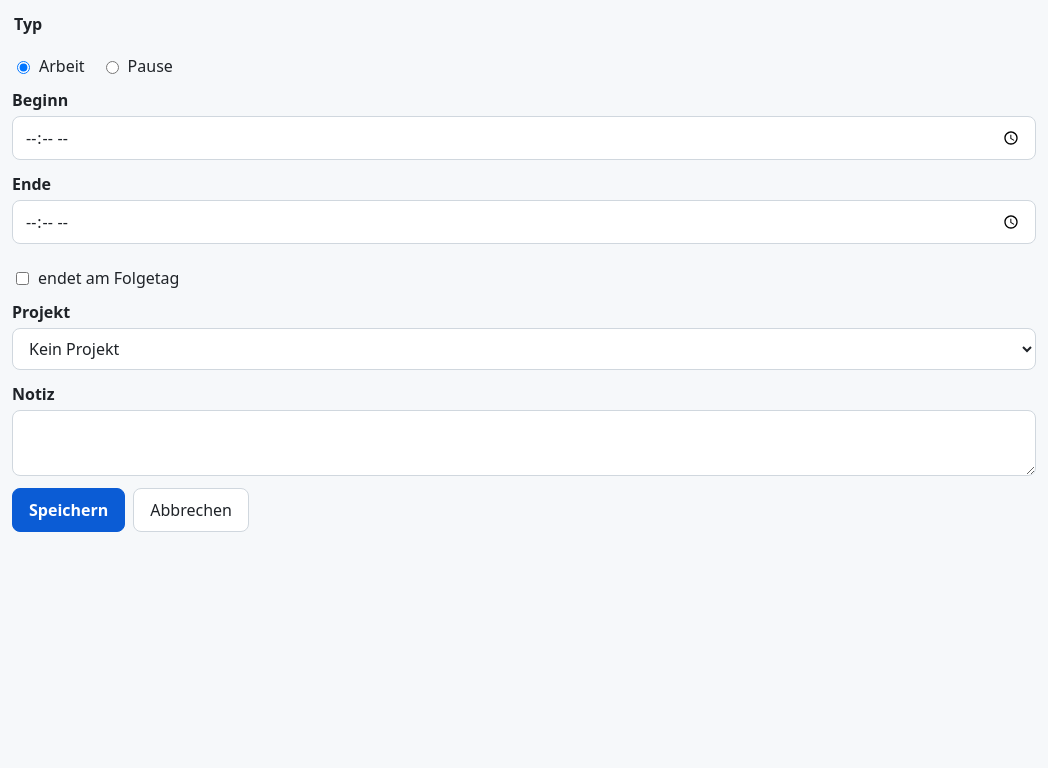
Test: EntryForm: add mode › rejects an end before the start
Type "12:00" into the time field labelled "Beginn" at x=524, y=138, box x1=12 y1=116 x2=1036 y2=160
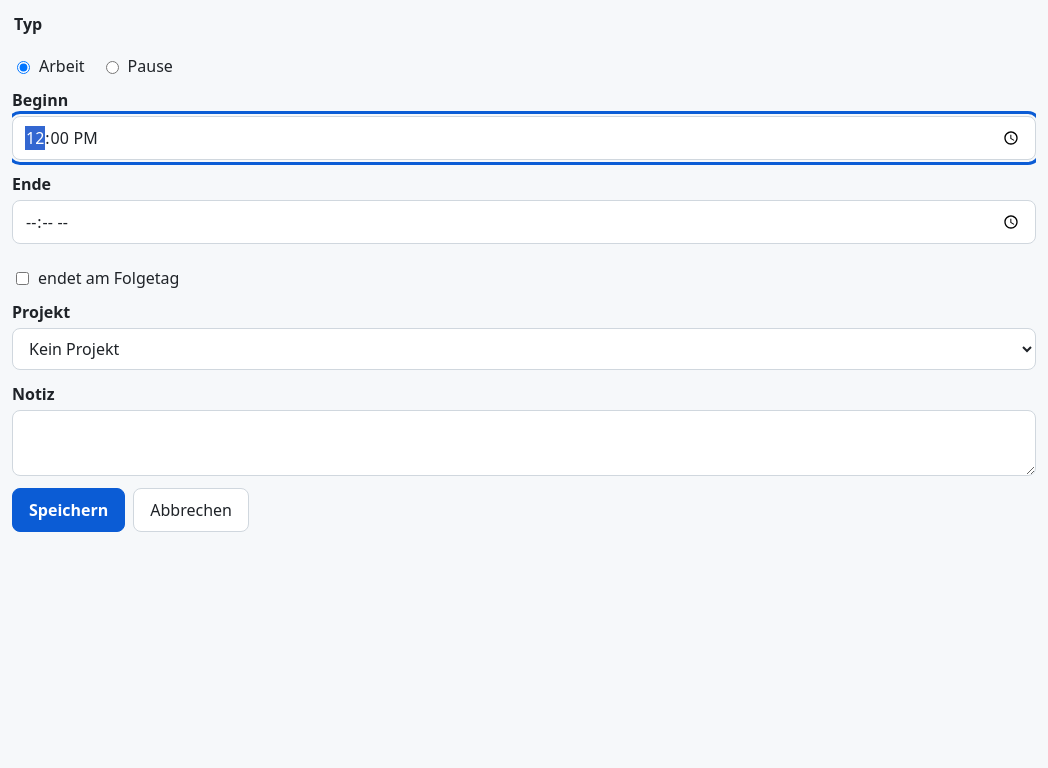
Type "08:00" into the time field labelled "Ende" at x=524, y=222, box x1=12 y1=200 x2=1036 y2=244
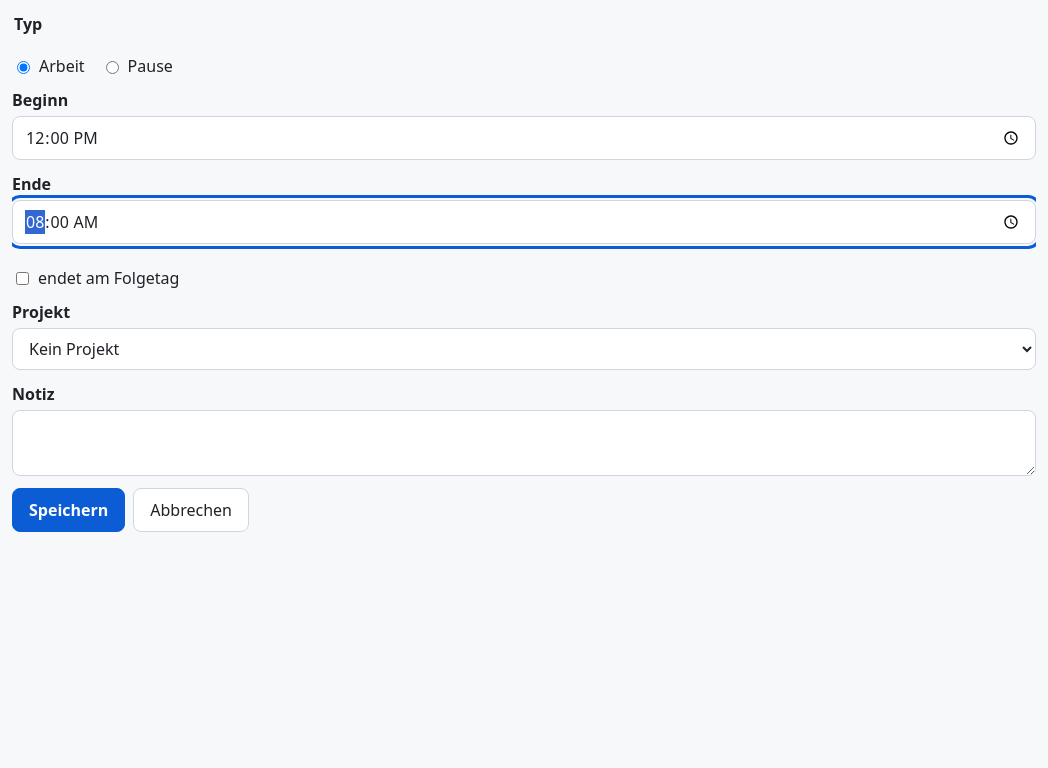
Click the button "Speichern" at x=69, y=510, box x1=12 y1=488 x2=125 y2=532
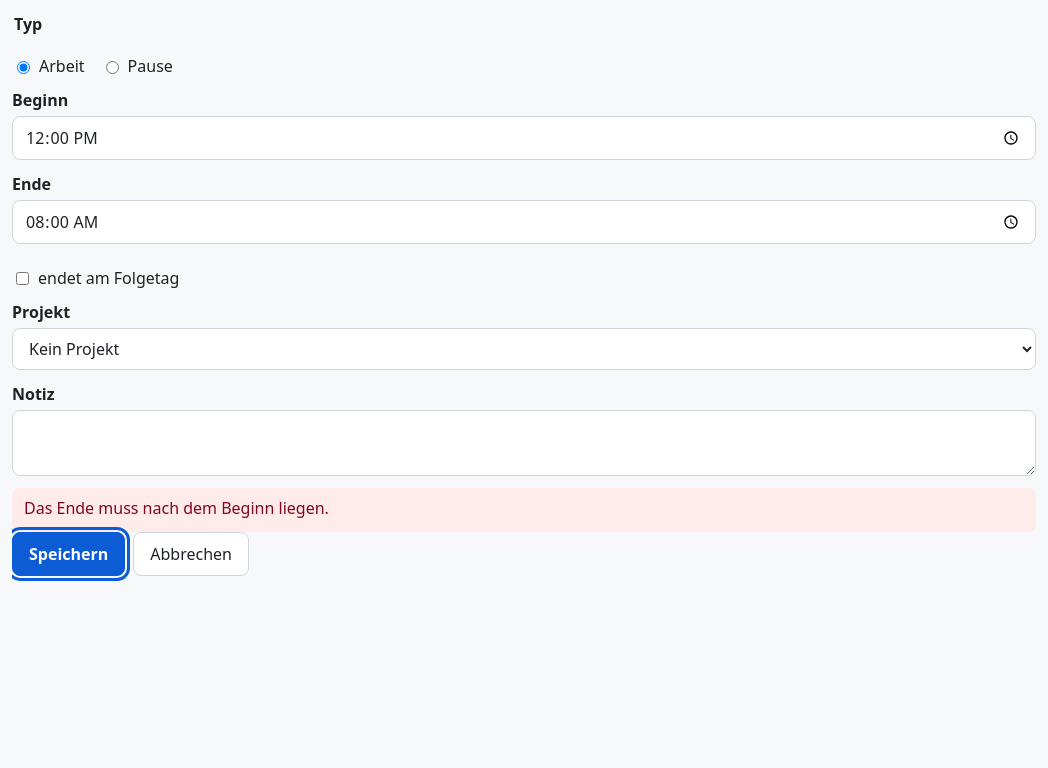
Expected: the message reads "Das Ende muss nach dem Beginn liegen.", x1=24 y1=497 x2=329 y2=519
